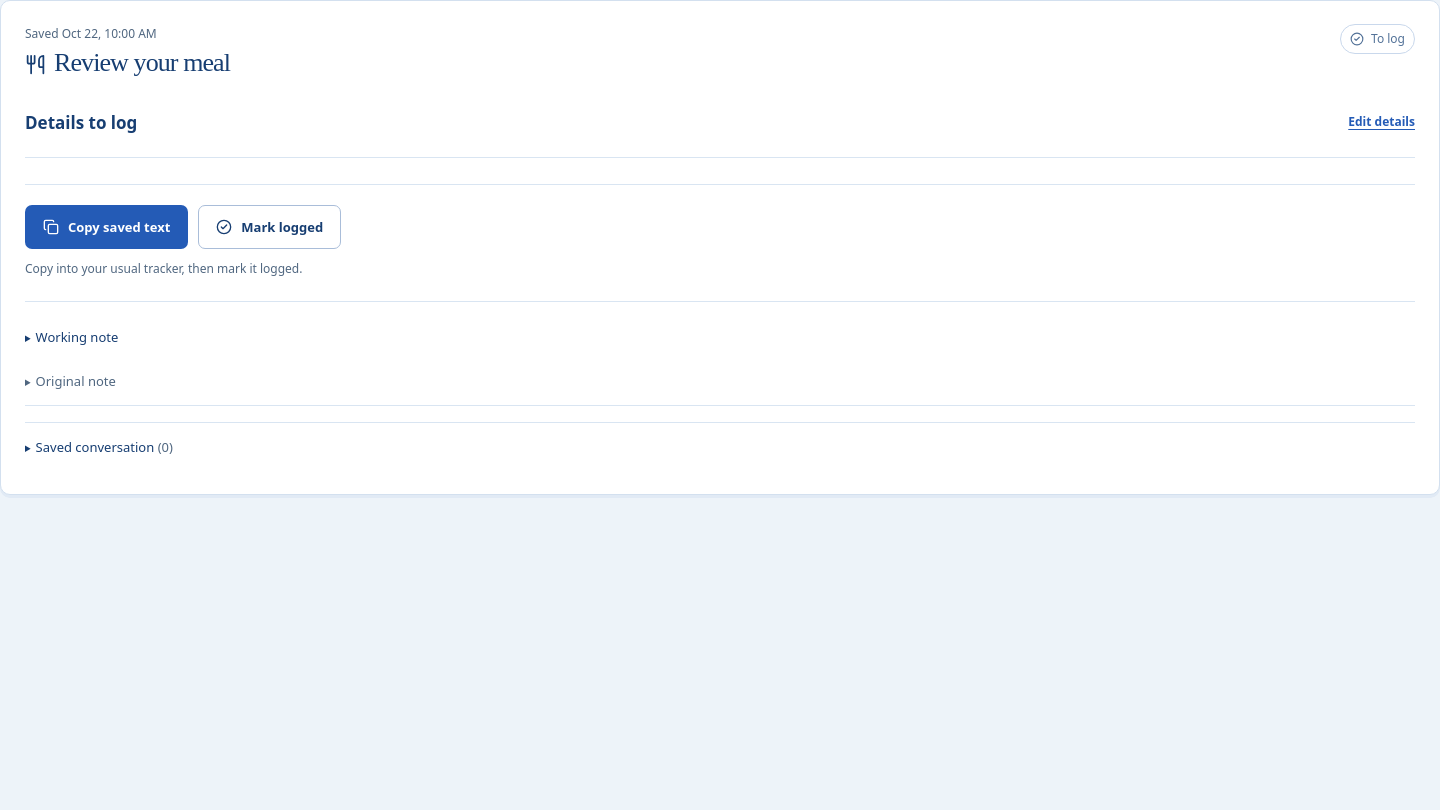
Test case: clipboard failure reveals selectable saved text without logging the entry
The width and height of the screenshot is (1440, 810).
Click the button "Copy saved text": point(107, 227) [25,205,188,249]
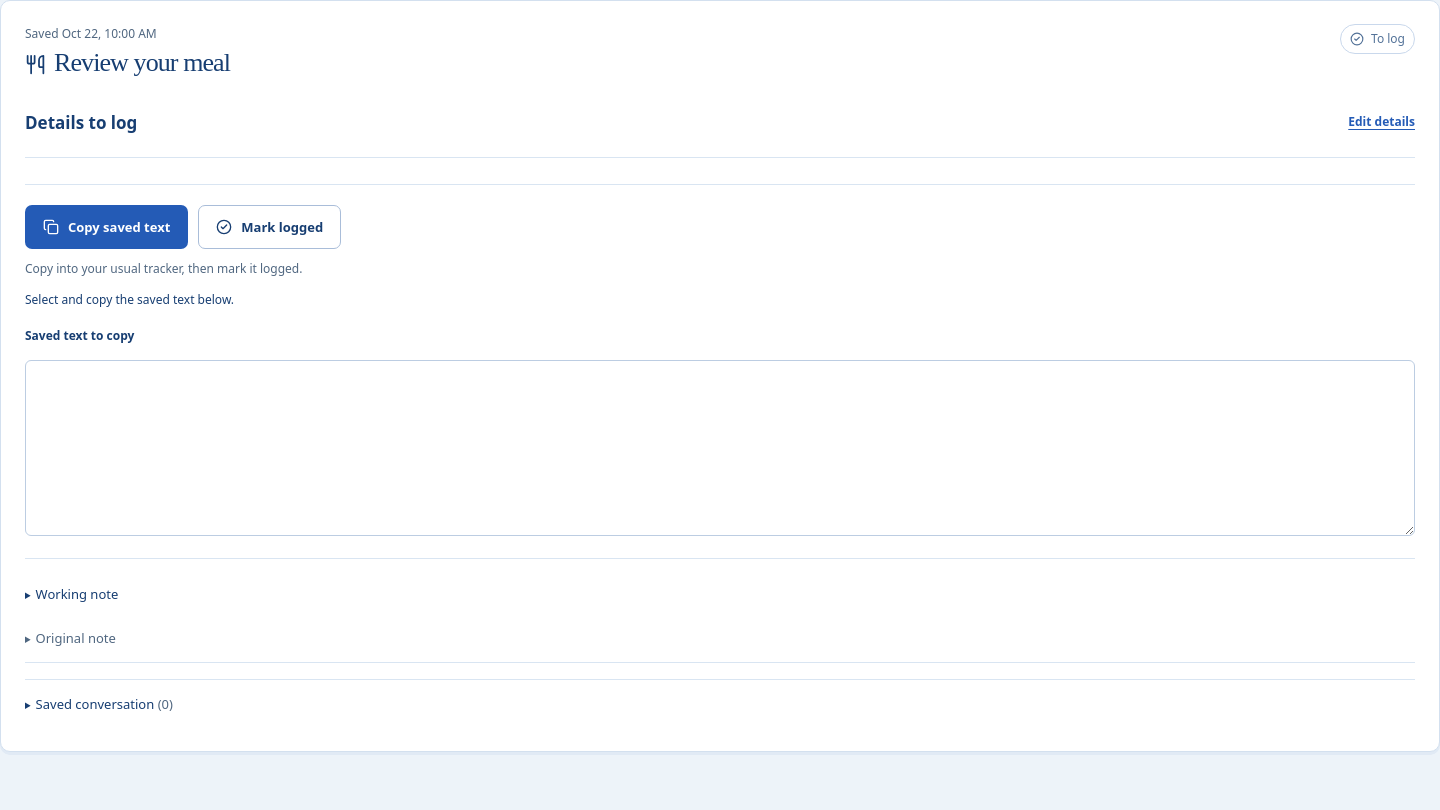
Expected: the text box labelled "Saved text to copy" is shown, [25,360,1415,536]
